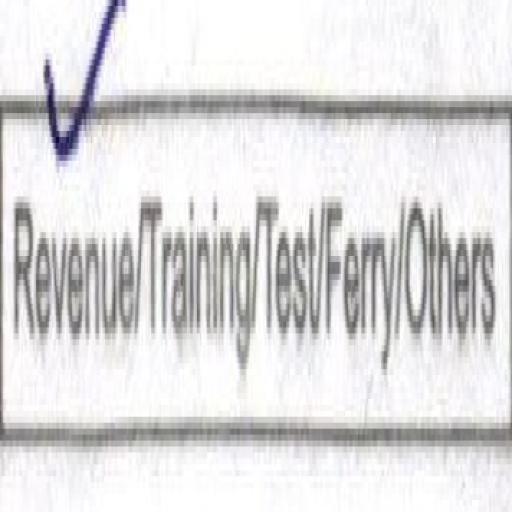check: (0, 0, 139, 454)
